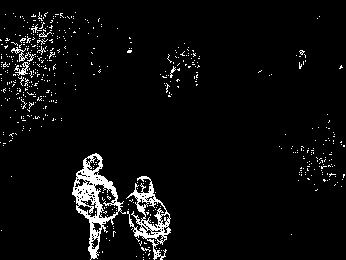person: (72, 152, 121, 260), (119, 174, 172, 260)
